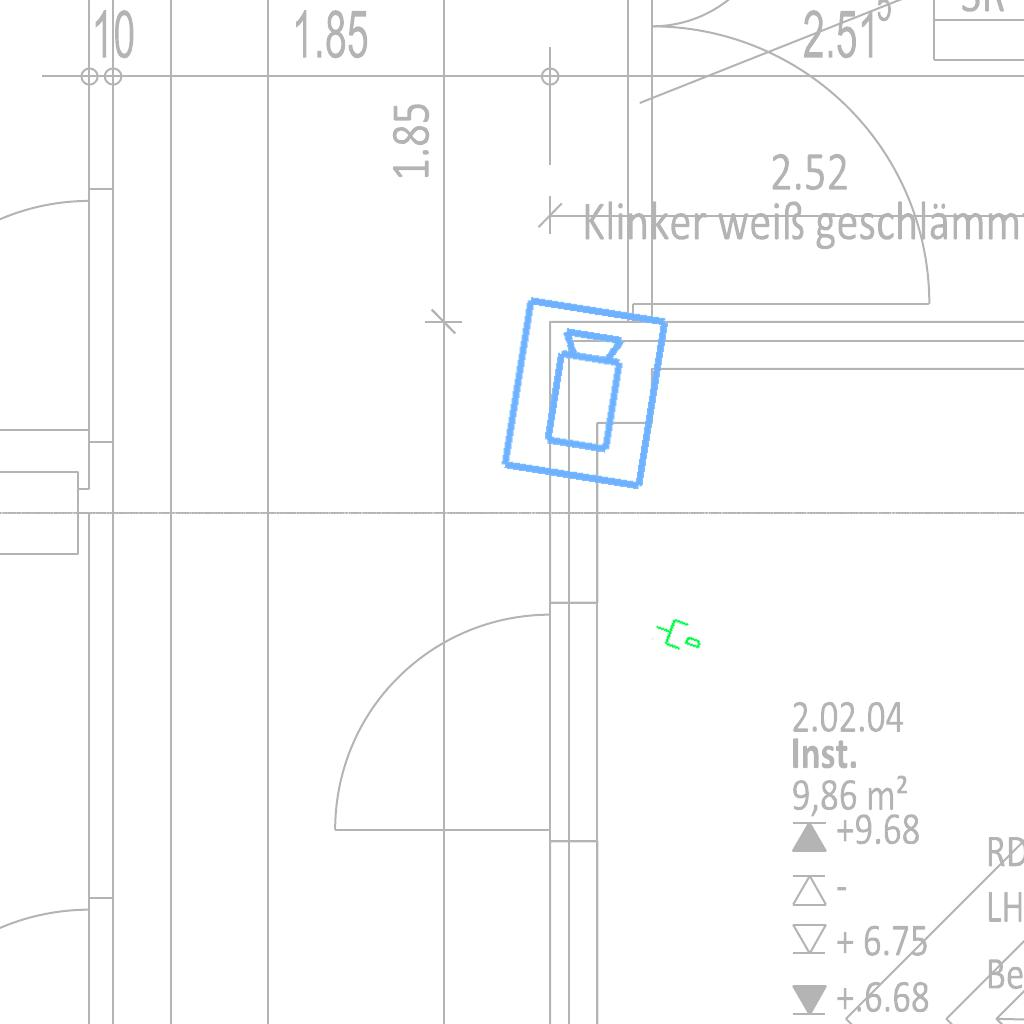Datenanschluss_einfach: (649, 609, 709, 659)
KFO_Kamera_mit_Festobjektiv: (495, 292, 677, 496)
